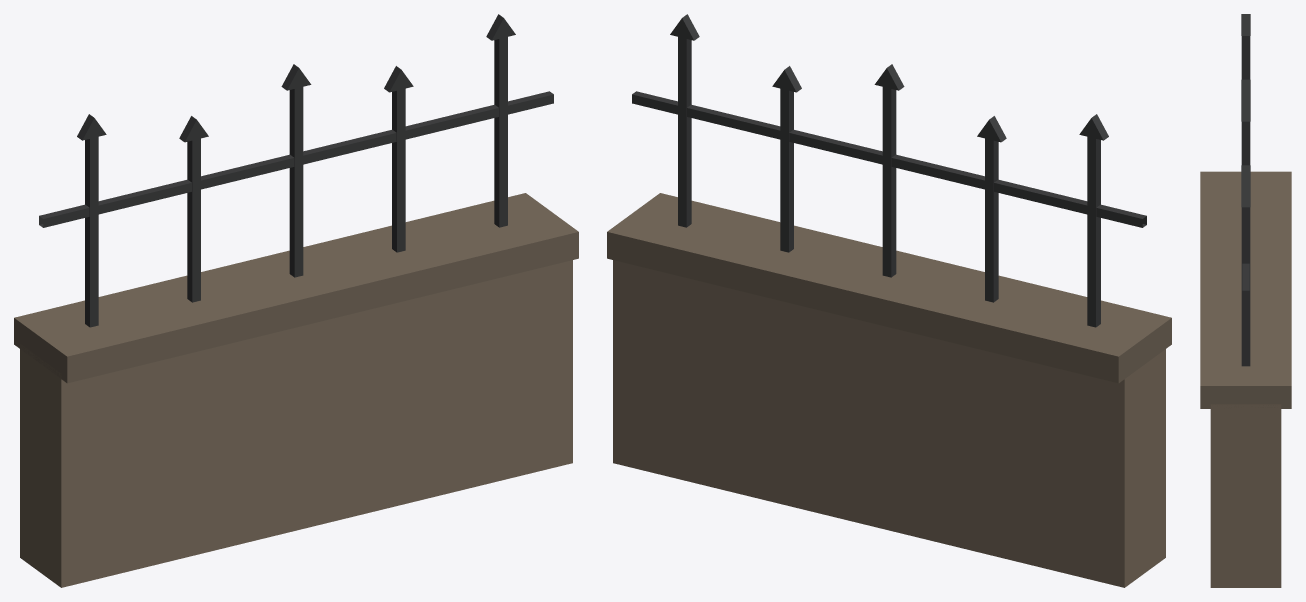
File: SM_Bldg_City_Apartment_Fence_02.fbx
3 renders of one model, left to right at view 1: azimuth 30°, elevation 25°; view 2: azimuth 150°, elevation 25°; view 3: azimuth 270°, elevation 25°, orthographic. The views are drawn at different scales.
Visible parts, largest first — view 1: SM_Bldg_City_Apartment_Fence_02; view 2: SM_Bldg_City_Apartment_Fence_02; view 3: SM_Bldg_City_Apartment_Fence_02.
Boxes of the visible parts, x1,y1,x2,y2 form: SM_Bldg_City_Apartment_Fence_02: [14, 14, 578, 587]; SM_Bldg_City_Apartment_Fence_02: [607, 14, 1171, 587]; SM_Bldg_City_Apartment_Fence_02: [1200, 14, 1291, 587].
Bounding box in the file's own units: 100 × 83 × 18.
